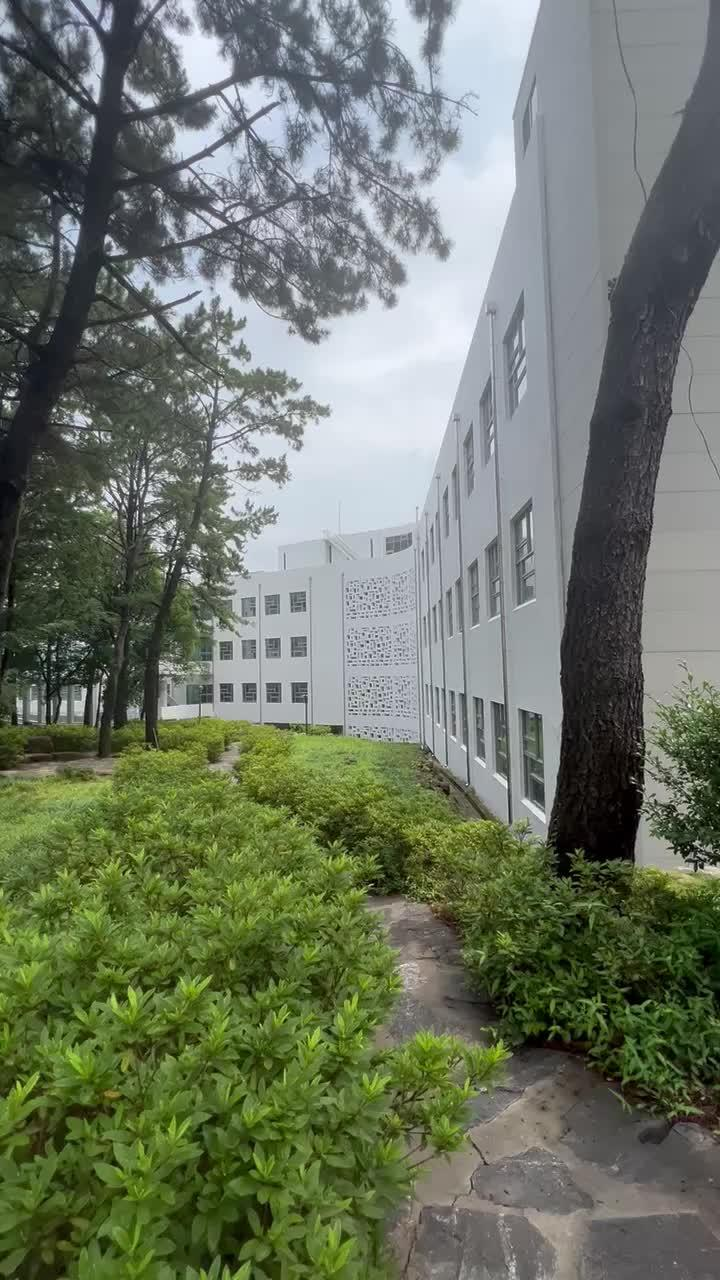building: (254, 512, 562, 738)
